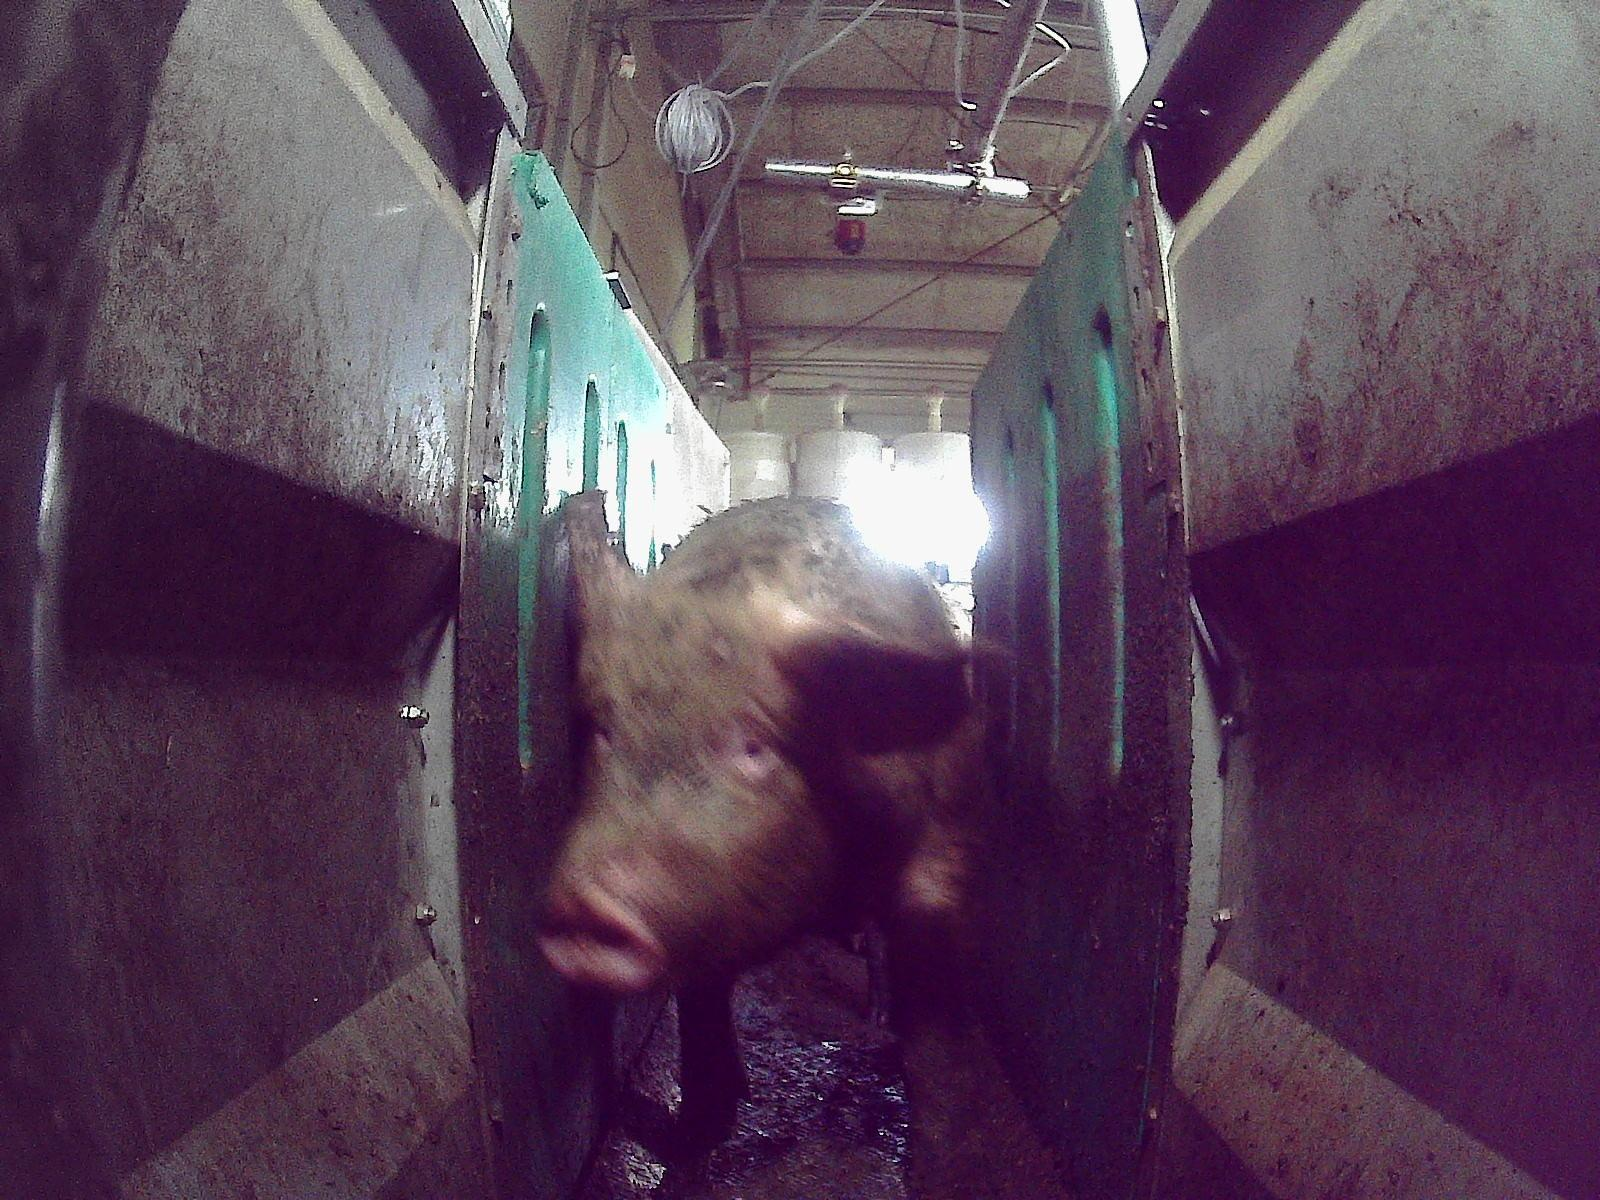Face: (534, 586, 823, 983)
